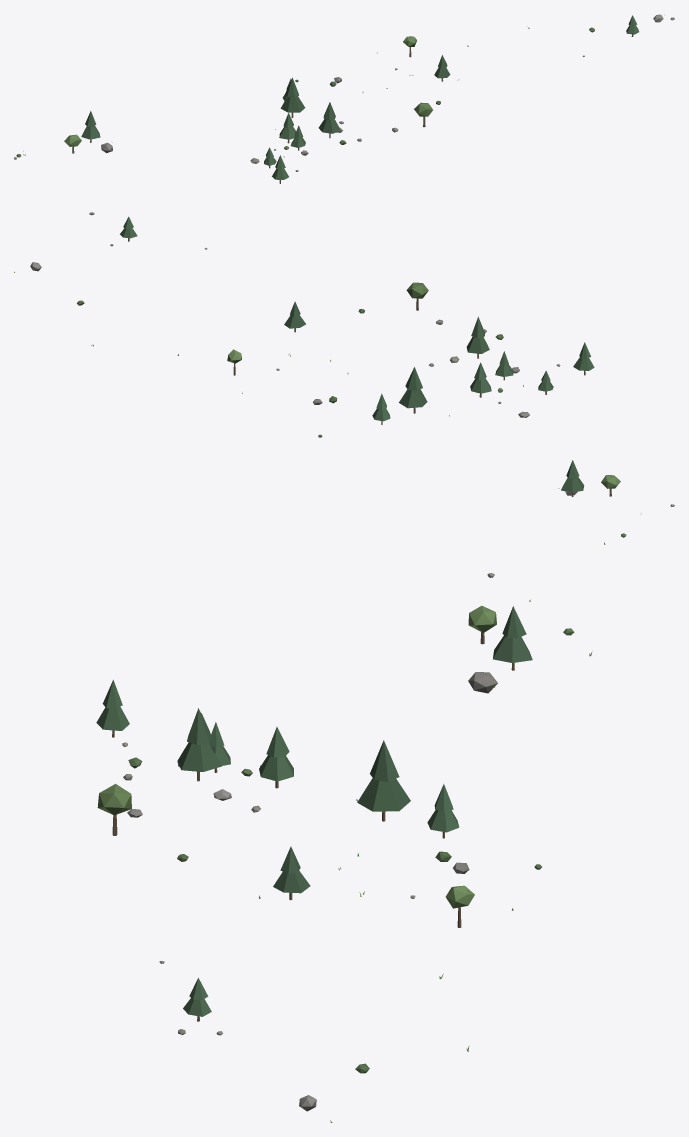
The model's file is arch_land_scatter_c20_18_lod1.glb.
The picture shows the model from 3 angles, top to bottom: view 1: azimuth 30°, elevation 25°; view 2: azimuth 150°, elevation 25°; view 3: azimuth 270°, elevation 25°; orthographic projection. The views are drawn at different scales.
Visible parts, largest first — view 1: arch_land_scatter_c20_18_lod1; view 2: arch_land_scatter_c20_18_lod1; view 3: arch_land_scatter_c20_18_lod1.
Part boxes in pixels (bbox=[...]): arch_land_scatter_c20_18_lod1: bbox=[14, 14, 674, 183]; arch_land_scatter_c20_18_lod1: bbox=[14, 212, 674, 544]; arch_land_scatter_c20_18_lod1: bbox=[96, 573, 592, 1122].
Bounding box in the file's own units: 237 × 32.68 × 83.48.
